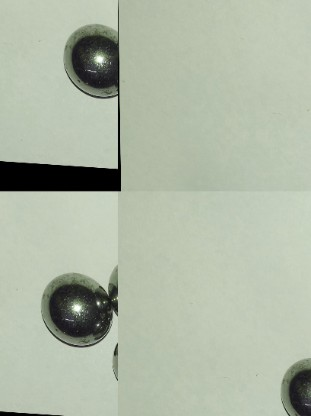ironball: (38, 271, 114, 349), (57, 16, 121, 99), (273, 356, 309, 414)
